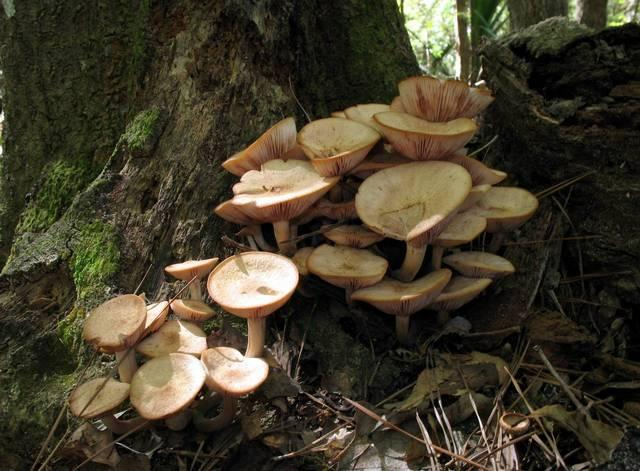edible_mushroom: (213, 73, 538, 341), (68, 257, 270, 426)
